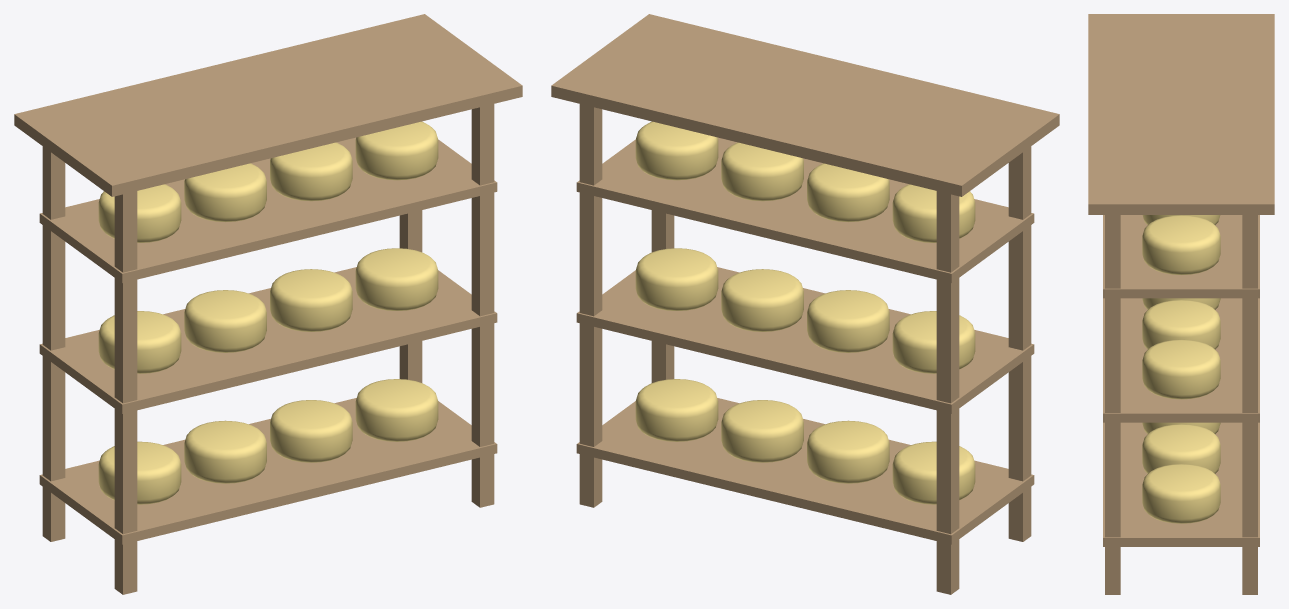
File: Dojrzewalnia.fbx
3 renders of one model, left to right at view 1: azimuth 30°, elevation 25°; view 2: azimuth 150°, elevation 25°; view 3: azimuth 270°, elevation 25°, orthographic. The views are drawn at different scales.
Visible parts, largest first — view 1: Maszyna_Dojrzewalnia_Korpus, Maszyna_Dojrzewalnia; view 2: Maszyna_Dojrzewalnia_Korpus, Maszyna_Dojrzewalnia; view 3: Maszyna_Dojrzewalnia_Korpus, Maszyna_Dojrzewalnia.
Part boxes in pixels (x1,y1,x2,y2): Maszyna_Dojrzewalnia_Korpus: [14, 14, 522, 594]; Maszyna_Dojrzewalnia: [98, 121, 438, 504]; Maszyna_Dojrzewalnia_Korpus: [551, 14, 1059, 594]; Maszyna_Dojrzewalnia: [635, 121, 975, 504]; Maszyna_Dojrzewalnia_Korpus: [1088, 14, 1274, 594]; Maszyna_Dojrzewalnia: [1142, 215, 1220, 523].
Bounding box in the file's own units: 2.3 × 2.25 × 0.95.
